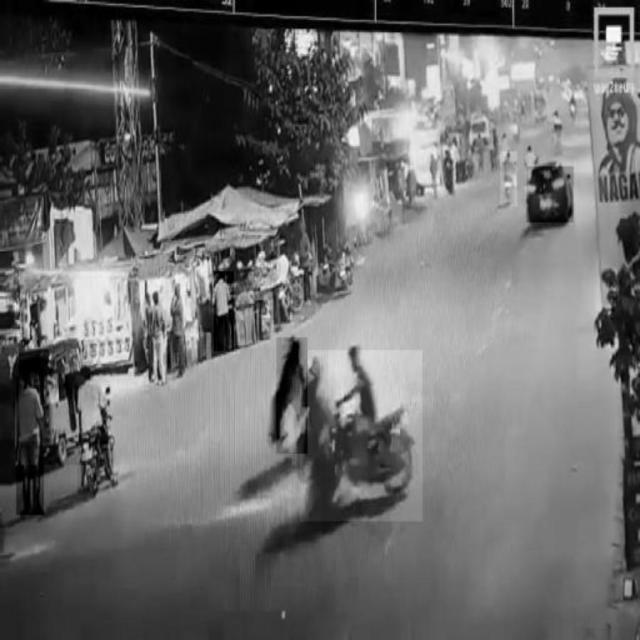accident: (300, 351, 422, 521)
person: (17, 377, 44, 515), (150, 290, 170, 391), (214, 272, 234, 352)
vehicle: (20, 340, 94, 466), (78, 365, 110, 495), (276, 338, 306, 454), (526, 166, 573, 222), (500, 151, 517, 206)
